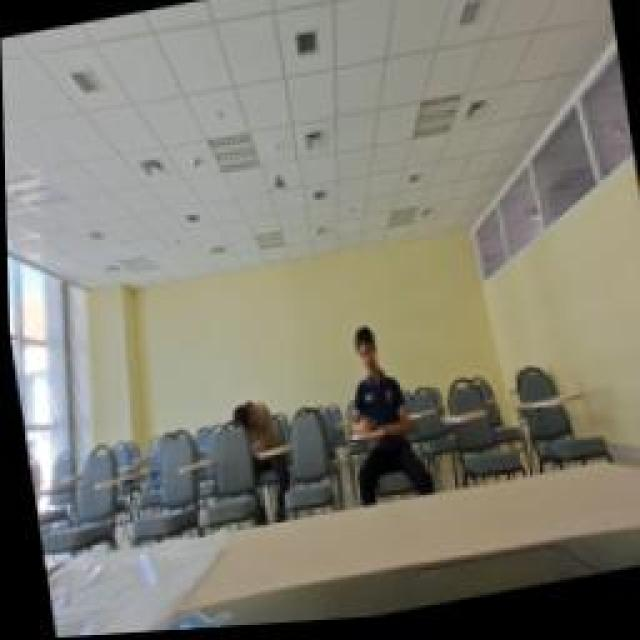phone: (328, 315, 410, 443)
study: (220, 392, 278, 460)
